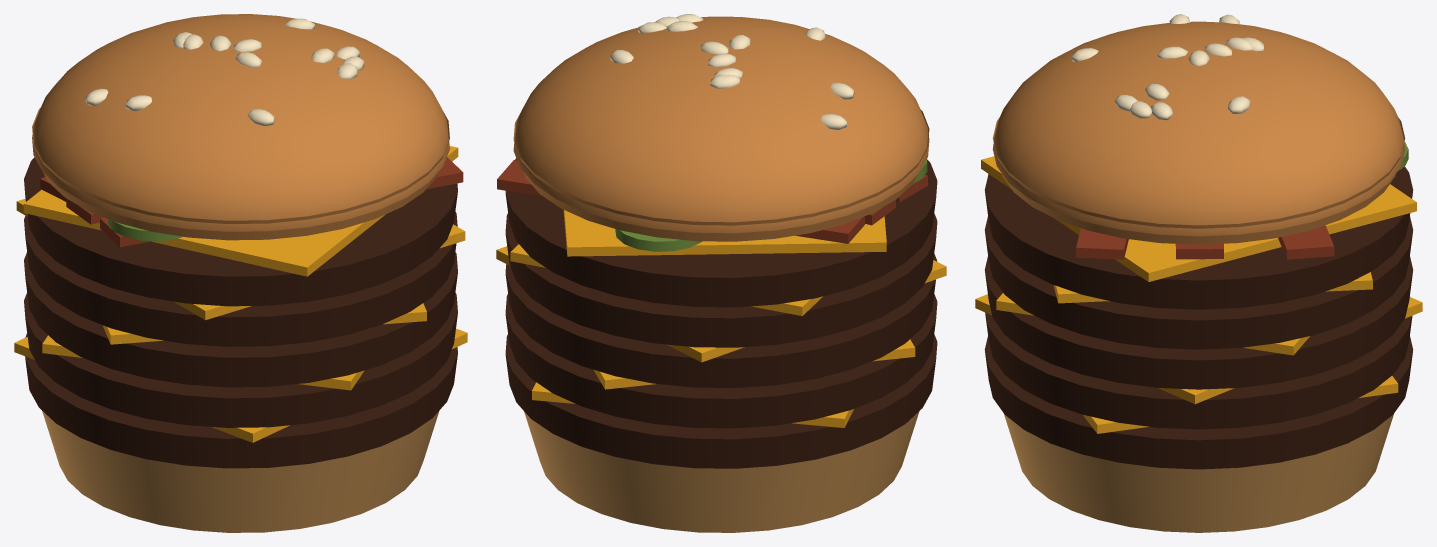
Rendered from burger-monster.glb.
3 views of the same model, side by side, from view 1: azimuth 30°, elevation 25°; view 2: azimuth 150°, elevation 25°; view 3: azimuth 270°, elevation 25° (orthographic).
Bounding box in the file's own units: 0.1892 × 0.19 × 0.1892.
